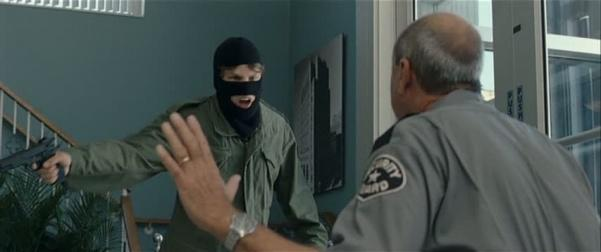Gun: (0, 137, 66, 187)
